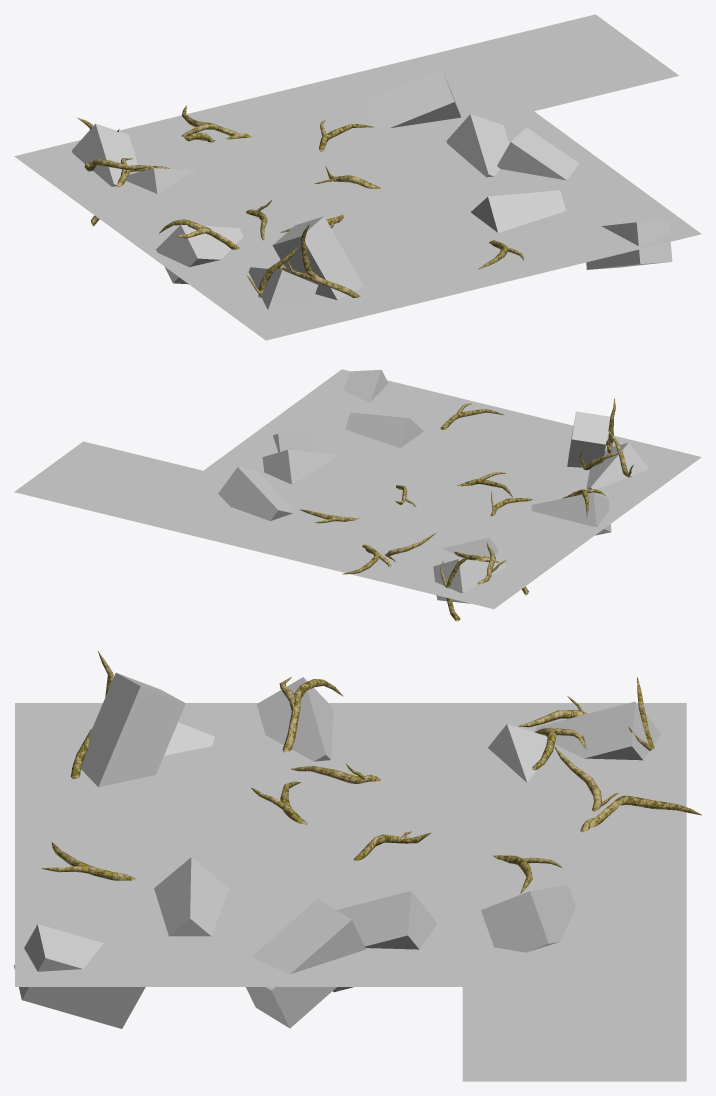
Rendered from Jungle_Void.fbx.
3 views of the same model, one above another, from view 1: azimuth 30°, elevation 25°; view 2: azimuth 150°, elevation 25°; view 3: azimuth 270°, elevation 25° (orthographic). The views are drawn at different scales.
Parts seen in each view (by area): view 1: Void, Void_A; view 2: Void, Void_A; view 3: Void, Void_A.
Part boxes in pixels (x1=…): Void: x1=14, y1=50, x2=701, y2=340; Void_A: x1=450, y1=14, x2=678, y2=111; Void: x1=134, y1=369, x2=701, y2=621; Void_A: x1=14, y1=441, x2=202, y2=521; Void: x1=14, y1=651, x2=701, y2=1028; Void_A: x1=462, y1=987, x2=686, y2=1081.
Size of the model in its own units: 1200 by 258 by 922.
